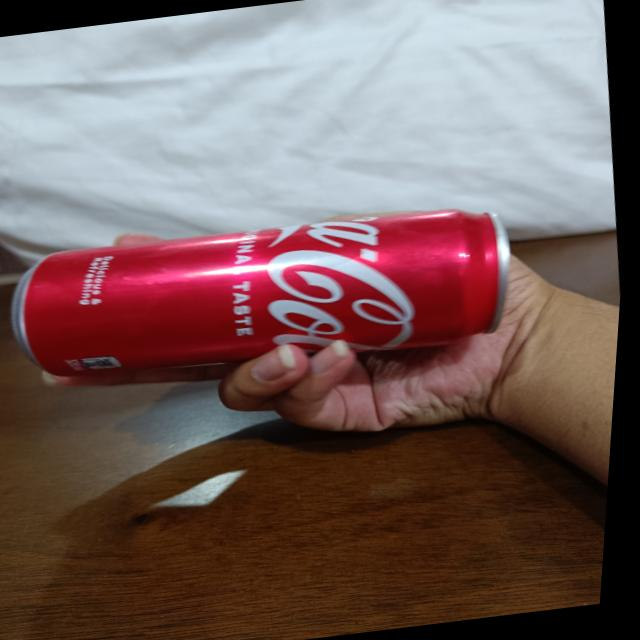coke: (12, 198, 525, 398)
